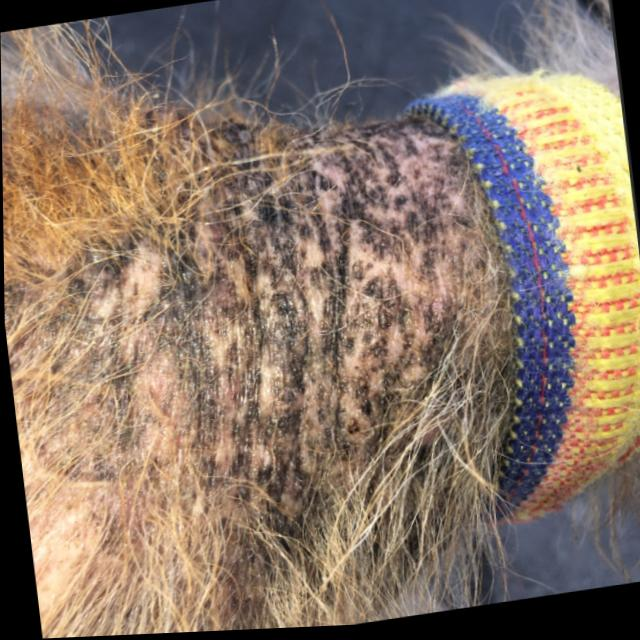demodicosis: (117, 128, 488, 478)
